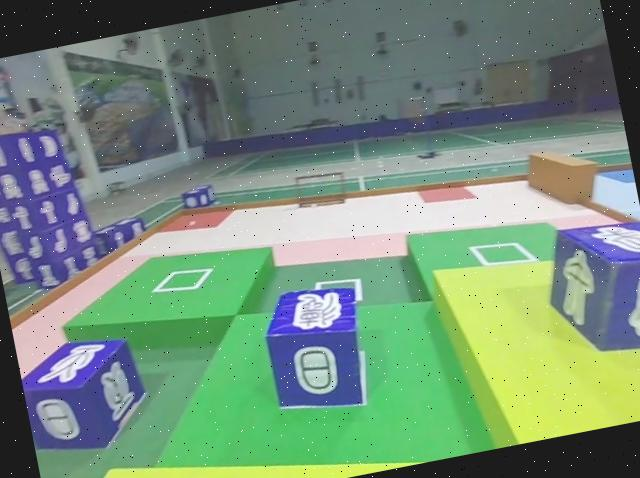R2 Fake Blue: (16, 329, 155, 463), (255, 277, 377, 423), (534, 214, 640, 375)
